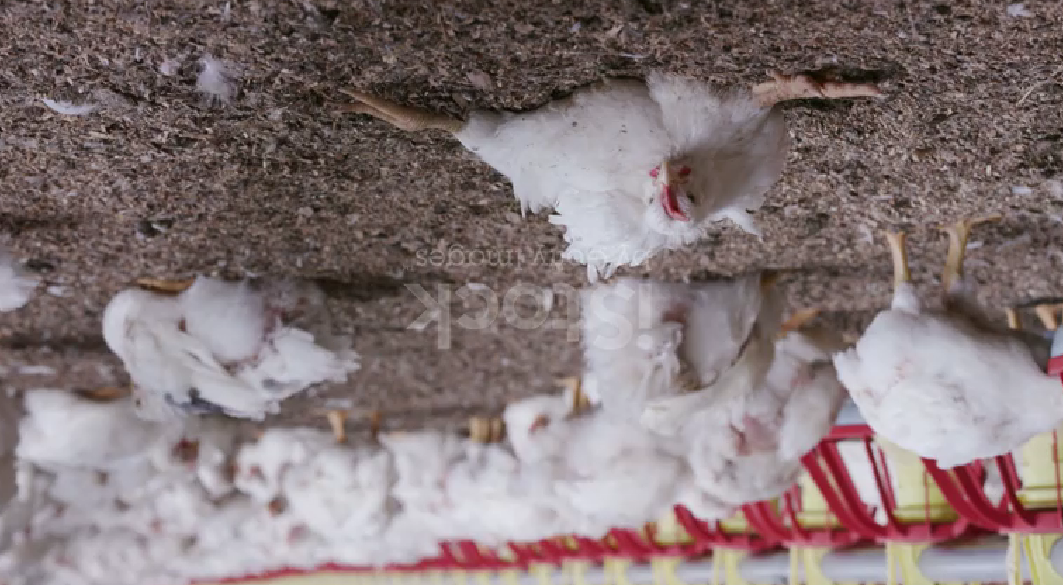Unhealthy: (318, 45, 914, 255)
